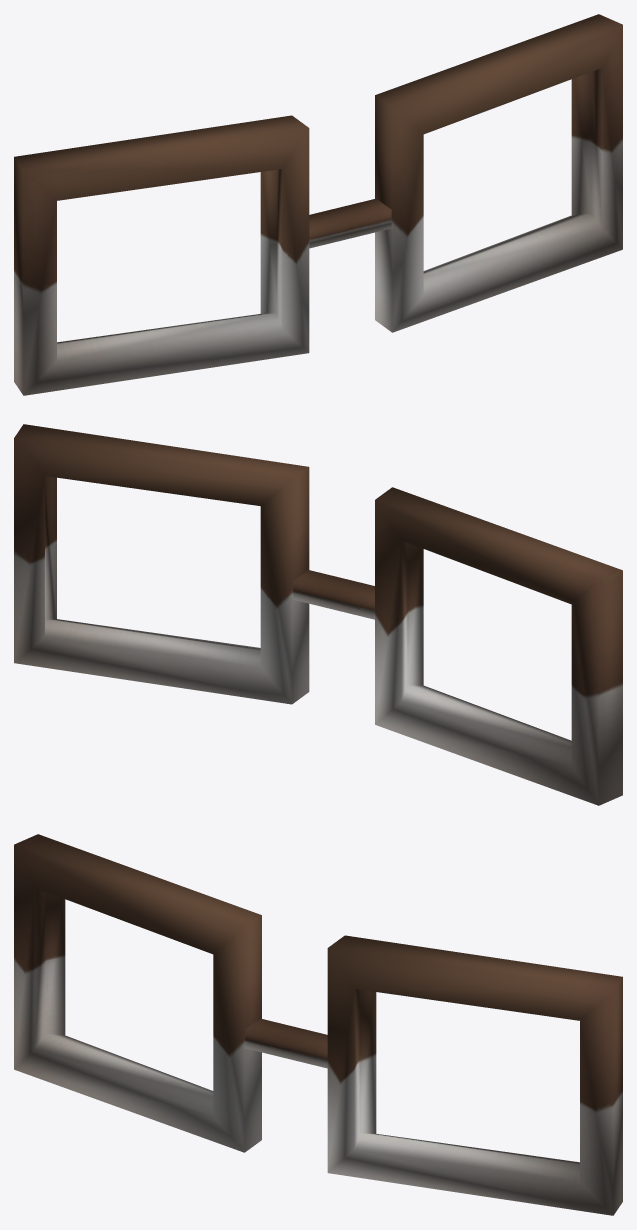
File: SM_GlassesA.glb
3 views of the same model, one above another, from view 1: azimuth 30°, elevation 25°; view 2: azimuth 150°, elevation 25°; view 3: azimuth 330°, elevation 25° (orthographic).
Visible parts, largest first — view 1: SM_GlassesA; view 2: SM_GlassesA; view 3: SM_GlassesA.
Boxes of the visible parts, x1=… form: SM_GlassesA: x1=14, y1=14, x2=622, y2=395; SM_GlassesA: x1=14, y1=424, x2=622, y2=805; SM_GlassesA: x1=14, y1=834, x2=622, y2=1215.
Bounding box in the file's own units: 0.8678 × 0.3112 × 0.1173.
Materials: 1 (1 with a texture image).
